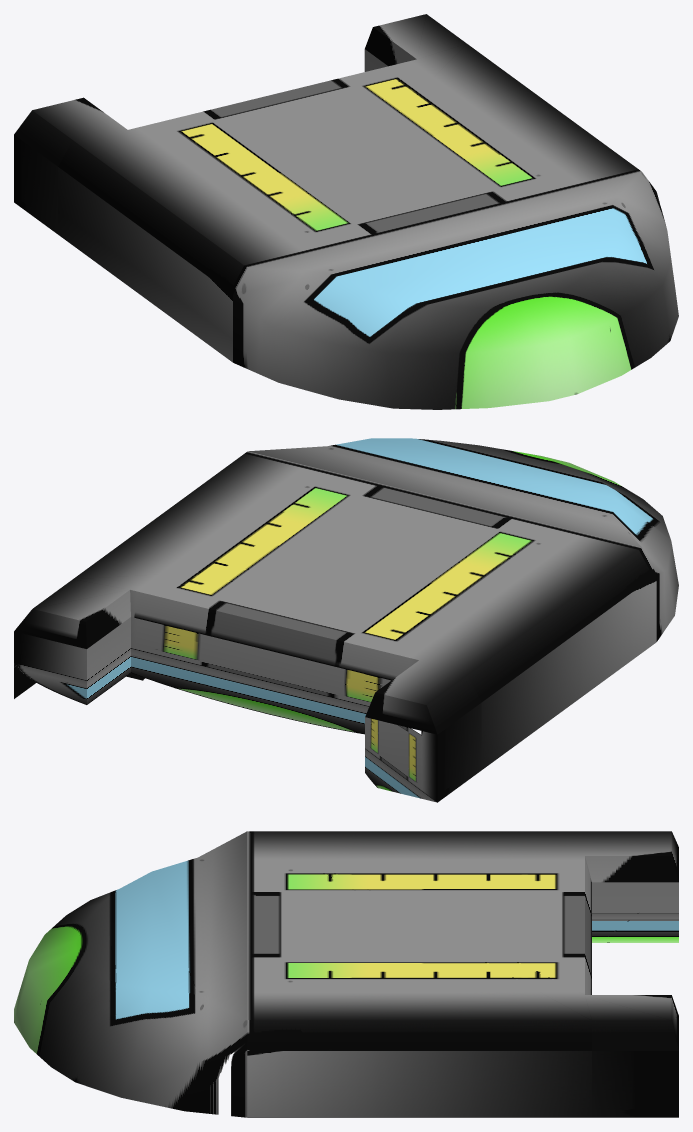
The model's file is BossHead.FBX.
The picture shows the model from 3 angles, top to bottom: view 1: azimuth 30°, elevation 25°; view 2: azimuth 150°, elevation 25°; view 3: azimuth 270°, elevation 25°; orthographic projection.
Parts seen in each view (by area): view 1: BossHead; view 2: BossHead; view 3: BossHead.
Part boxes in pixels (x1,y1,x2,y2): BossHead: (14, 14, 678, 409); BossHead: (14, 438, 678, 802); BossHead: (14, 831, 678, 1117).
Size of the model in its own units: 59.14 by 12.18 by 81.62.
Materials: 1 (1 with a texture image).
